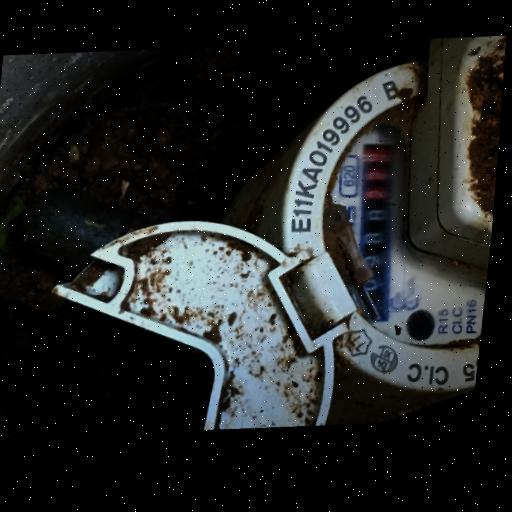0: (355, 275, 388, 294)
8: (360, 228, 388, 248), (362, 206, 391, 224)
9: (356, 251, 389, 271)
border_water_meter_number: (341, 138, 408, 327)
